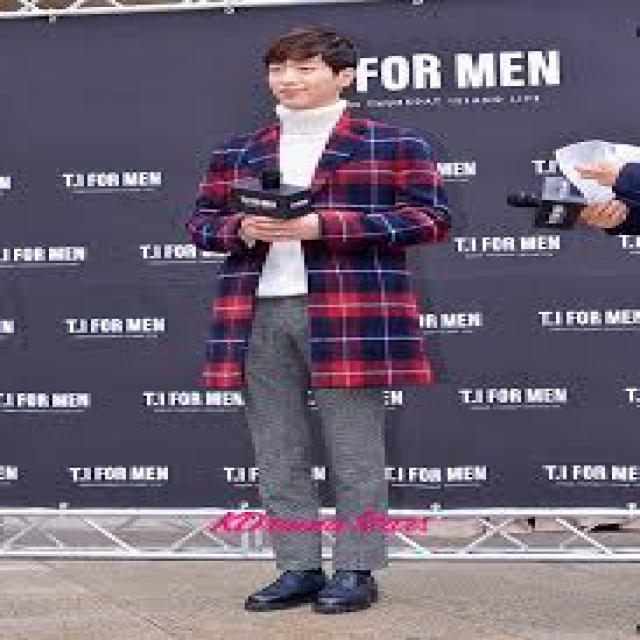plaid: (177, 117, 451, 390)
